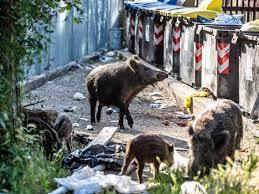wildboar: (81, 54, 171, 132), (183, 96, 247, 179), (115, 129, 179, 183)
